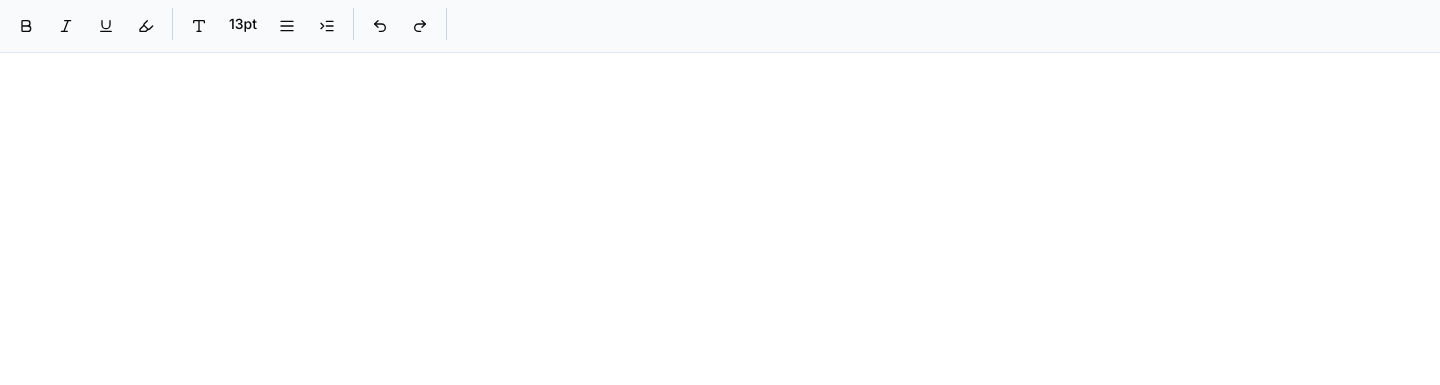
Test: FormattingToolbar › Font Size Selector › should open dropdown with common font sizes when clicked
Click the button titled "Taille de police": {"x": 243, "y": 24} x1=221 y1=8 x2=265 y2=40
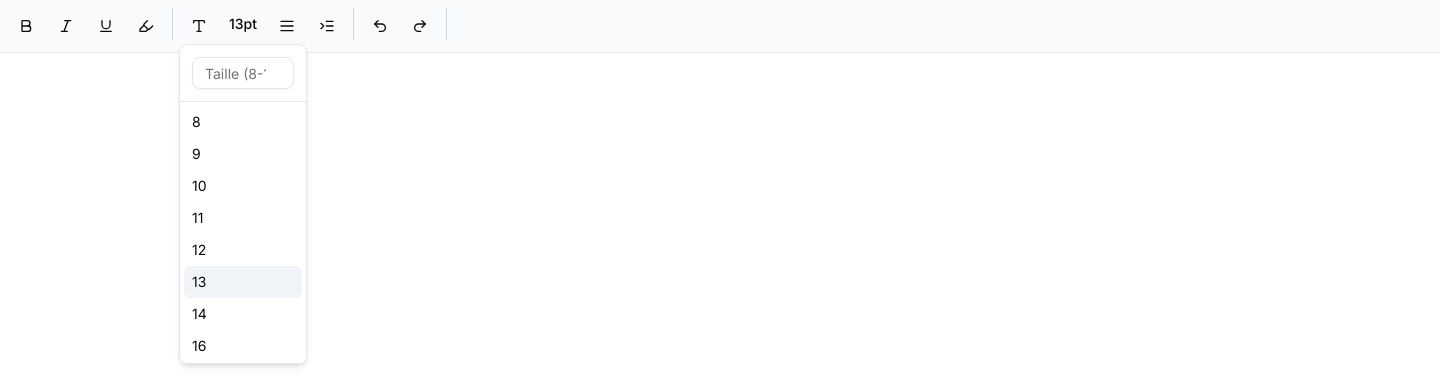
expect the menu item "8" is shown: met, box x1=192 y1=113 x2=201 y2=130
expect the menu item "12" is shown: met, box x1=192 y1=241 x2=206 y2=258
